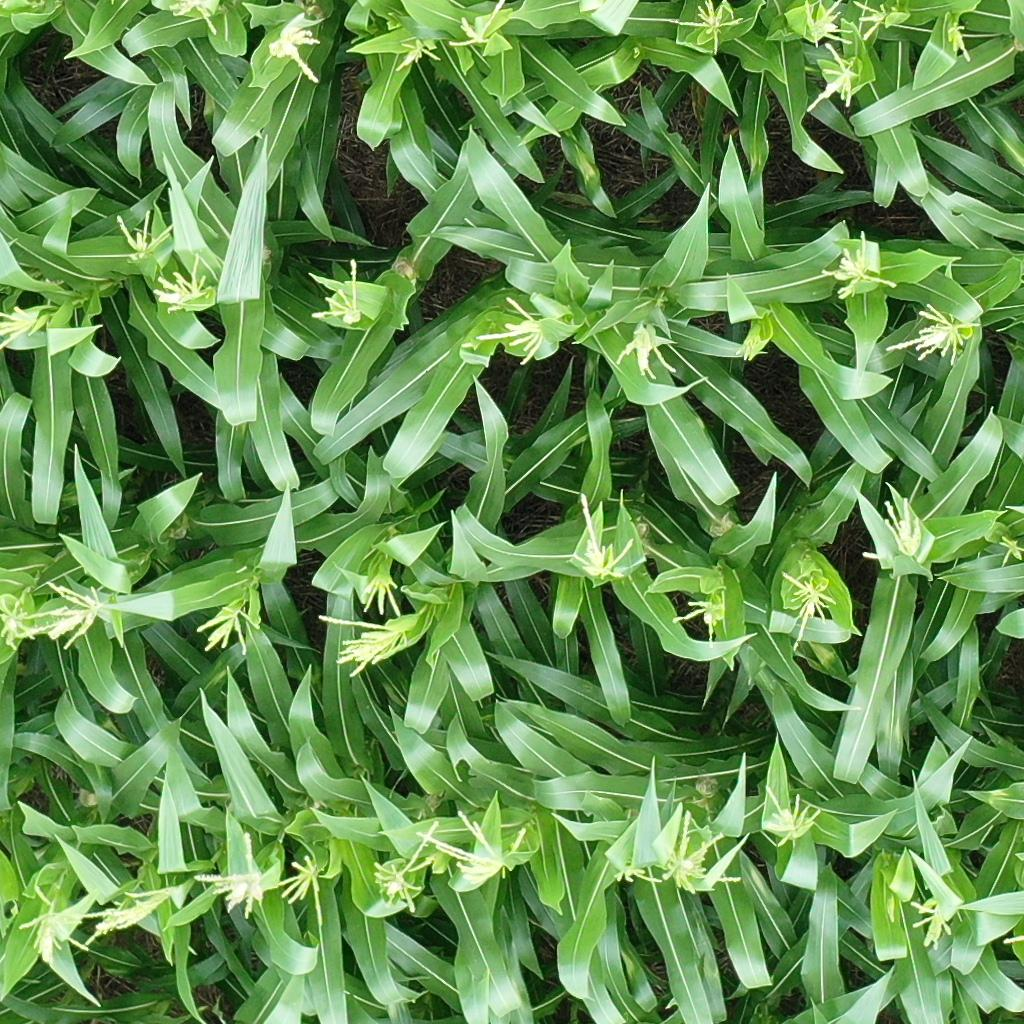Tassel: (418, 806, 530, 884), (74, 885, 193, 953), (658, 808, 742, 897), (568, 487, 642, 588), (193, 828, 274, 920), (368, 816, 444, 912), (882, 296, 981, 367), (819, 225, 901, 303), (14, 883, 89, 967), (317, 613, 410, 679), (472, 291, 556, 364), (861, 495, 936, 571), (47, 579, 117, 653), (775, 564, 835, 649), (801, 38, 862, 114), (147, 251, 215, 316), (615, 319, 683, 382), (265, 11, 322, 84), (194, 600, 265, 658), (309, 253, 366, 325), (107, 203, 176, 261), (764, 779, 821, 847), (903, 893, 965, 953), (679, 1, 745, 56), (1, 585, 49, 651), (449, 1, 508, 52), (276, 852, 324, 909), (1, 301, 51, 353), (800, 1, 854, 49), (351, 570, 405, 616), (673, 595, 730, 637), (162, 1, 229, 36), (393, 35, 444, 76), (848, 1, 897, 42), (944, 20, 979, 64), (609, 860, 665, 884), (732, 335, 769, 362), (998, 534, 1023, 569)
